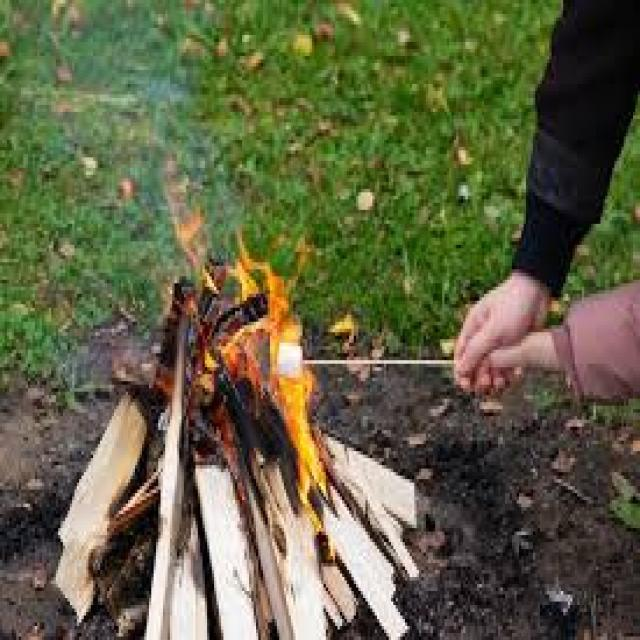fire: (237, 228, 327, 505), (227, 260, 258, 301)
